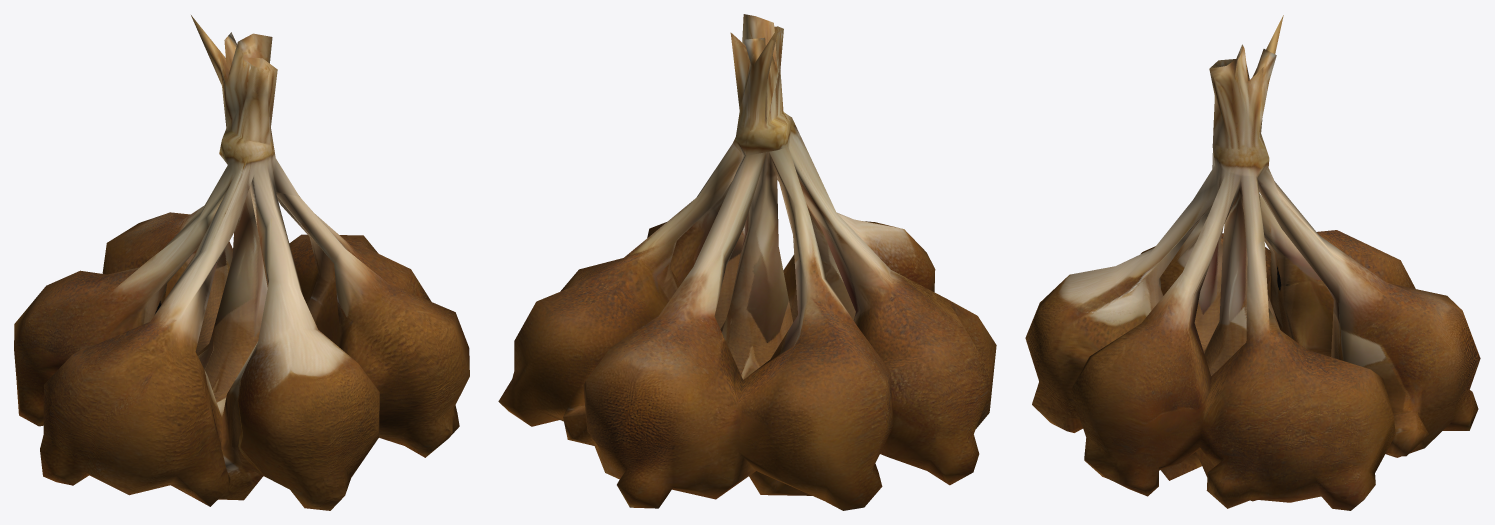
File: Singkamas.glb
The picture shows the model from 3 angles, left to right: view 1: azimuth 30°, elevation 25°; view 2: azimuth 150°, elevation 25°; view 3: azimuth 270°, elevation 25°; orthographic projection. The views are drawn at different scales.
Bounding box in the file's own units: 1.81 × 1.94 × 1.85.
Materials: 1 (1 with a texture image).
